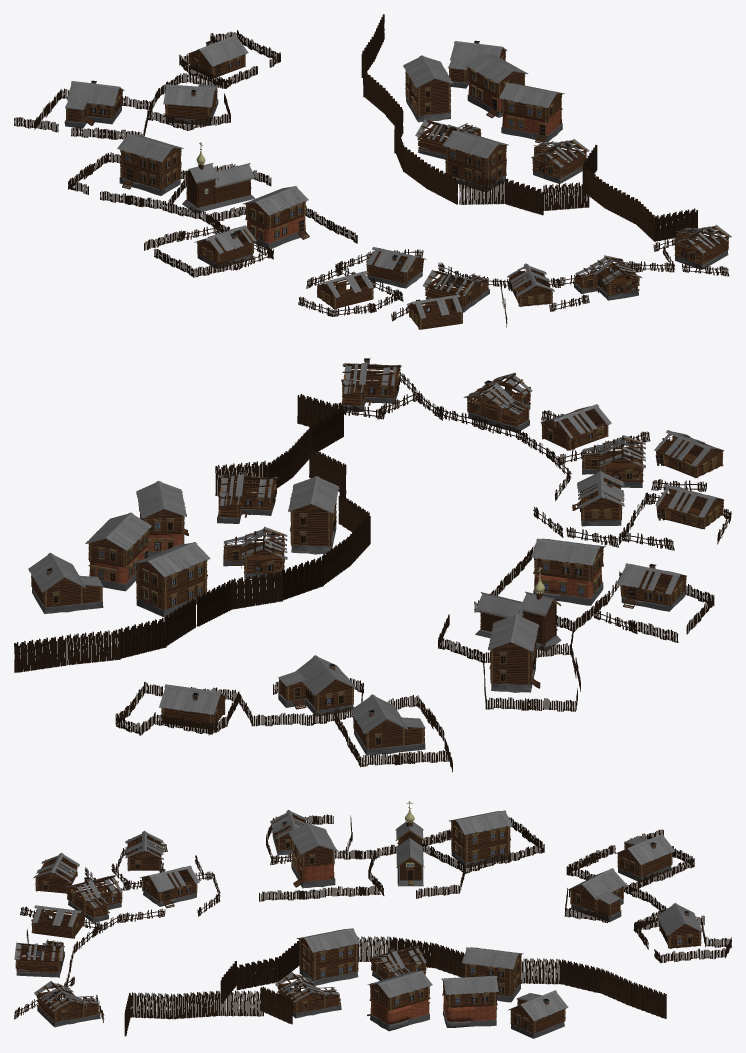
Rendered from derevnya.fbx.
3 views of the same model, one above another, from view 1: azimuth 30°, elevation 25°; view 2: azimuth 150°, elevation 25°; view 3: azimuth 270°, elevation 25° (orthographic). The views are drawn at different scales.
Parts seen in each view (by area): view 1: house 4.001, house 7.007, house 7.002, house 4.002, сhurch, house 4.003, house 7.008, Main_house.001, house 6.003, Main_house, house 6.002, house 6.005 (+22 smaller); view 2: house 4.003, house 7.002, house 7.008, house 4.001, house 4.002, Main_house, Main_house.002, Main_house.001, сhurch, house 6.003, house 7.007, house 3.001 (+26 smaller); view 3: house 7.007, house 4.002, house 4.001, house 7.008, house 7.002, house 4.003, Main_house, Main_house.002, Main_house.001, house 6.002, house 6.001, house 6.005 (+29 smaller).
Part boxes in pixels (x1,y1,x2,y2): house 4.001: (117,134,183,195); house 7.007: (499,82,564,143); house 7.002: (243,186,309,249); house 4.002: (442,130,508,192); сhurch: (182,142,255,213); house 4.003: (403,55,453,122); house 7.008: (465,52,527,117); Main_house.001: (64,80,124,128); house 6.003: (574,255,641,300); Main_house: (163,84,218,125); house 6.002: (673,224,731,269); house 6.005: (531,139,589,183); house 4.003: (132,542,210,616); house 7.002: (531,538,605,605); house 7.008: (85,512,151,591); house 4.001: (488,614,538,692); house 4.002: (288,476,339,554); Main_house: (278,655,356,716); Main_house.002: (28,552,103,613); Main_house.001: (350,694,425,755); сhurch: (474,567,561,651); house 6.003: (463,372,532,432); house 7.007: (136,481,188,557); house 3.001: (617,563,686,611); house 7.007: (367,970,432,1031); house 4.002: (296,928,360,985); house 4.001: (449,810,512,867); house 7.008: (441,975,498,1027); house 7.002: (288,823,336,888); house 4.003: (462,947,523,1002); Main_house: (567,868,626,922); Main_house.002: (508,990,568,1038); Main_house.001: (615,834,674,881); house 6.002: (34,981,100,1027); house 6.001: (65,875,122,922); house 6.005: (275,972,341,1018).
Size of the model in its own units: 19212 by 2808 by 26754.
Materials: 12 (12 with a texture image).
